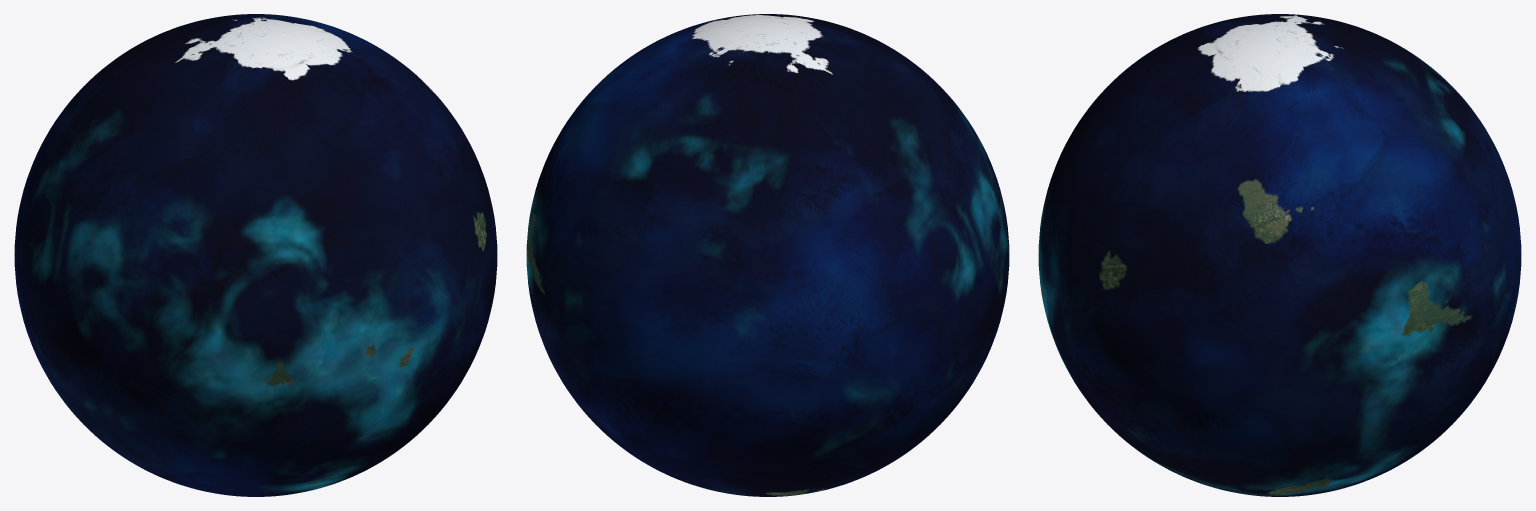
Rendered from planeta_azul.obj.
The picture shows the model from 3 angles, left to right: view 1: azimuth 30°, elevation 25°; view 2: azimuth 150°, elevation 25°; view 3: azimuth 270°, elevation 25°; orthographic projection.
Parts seen in each view (by area): view 1: planeta_azul; view 2: planeta_azul; view 3: planeta_azul.
Part boxes in pixels (x1,y1,x2,y2): planeta_azul: (14, 14, 497, 496); planeta_azul: (526, 14, 1009, 496); planeta_azul: (1038, 14, 1521, 496).
Bounding box in the file's own units: 2 × 2 × 2.
Materials: 1 (1 with a texture image).
